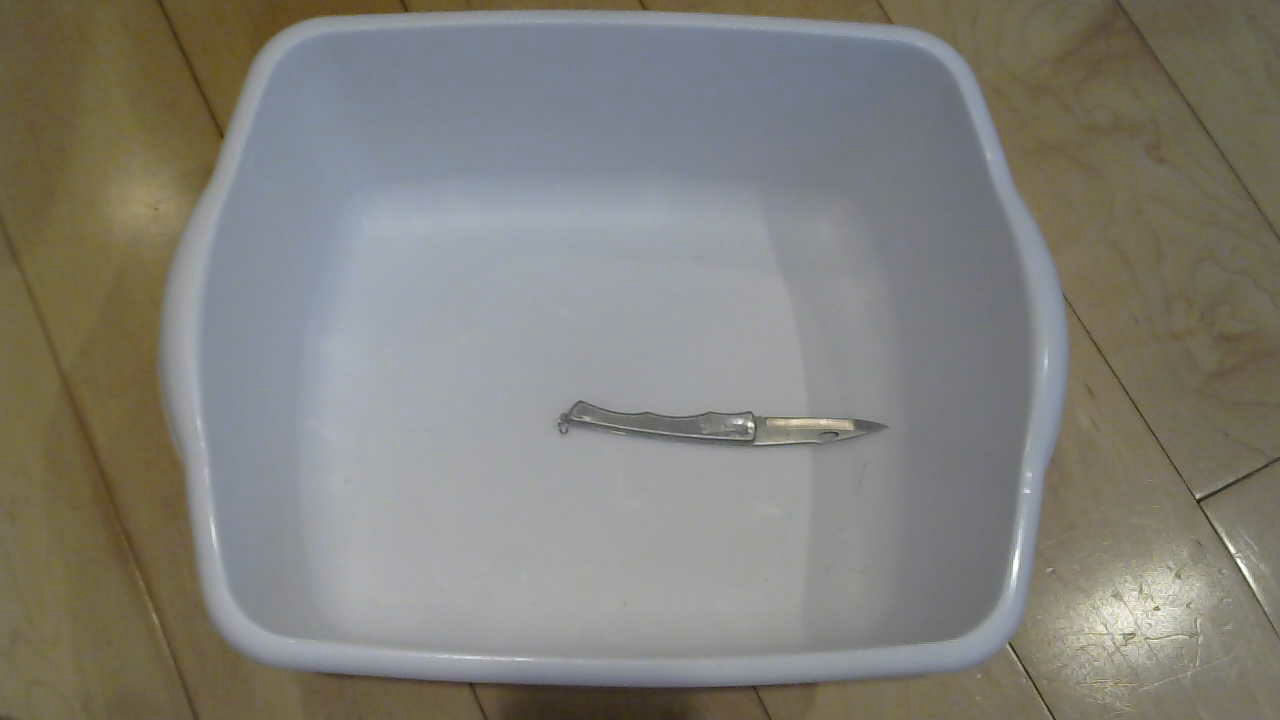knife: (535, 372, 910, 477)
